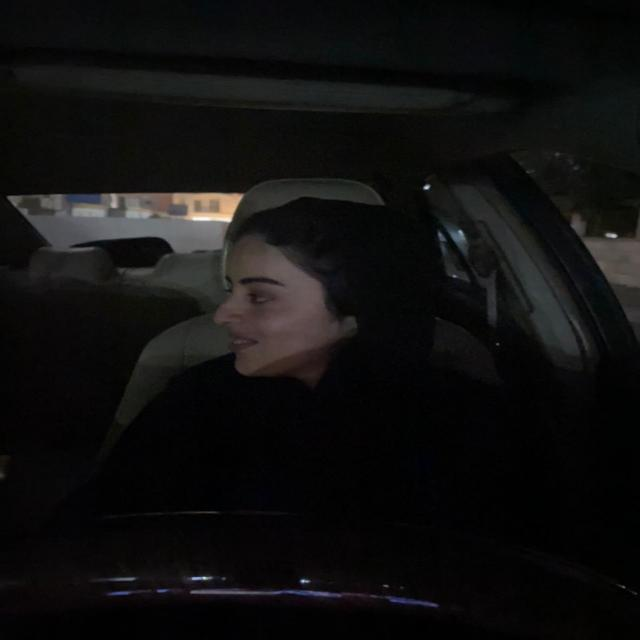LeftRight: (200, 190, 418, 397)
